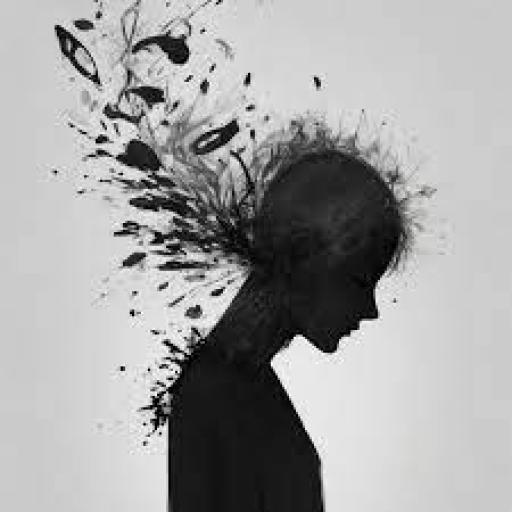person: (162, 143, 416, 510)
